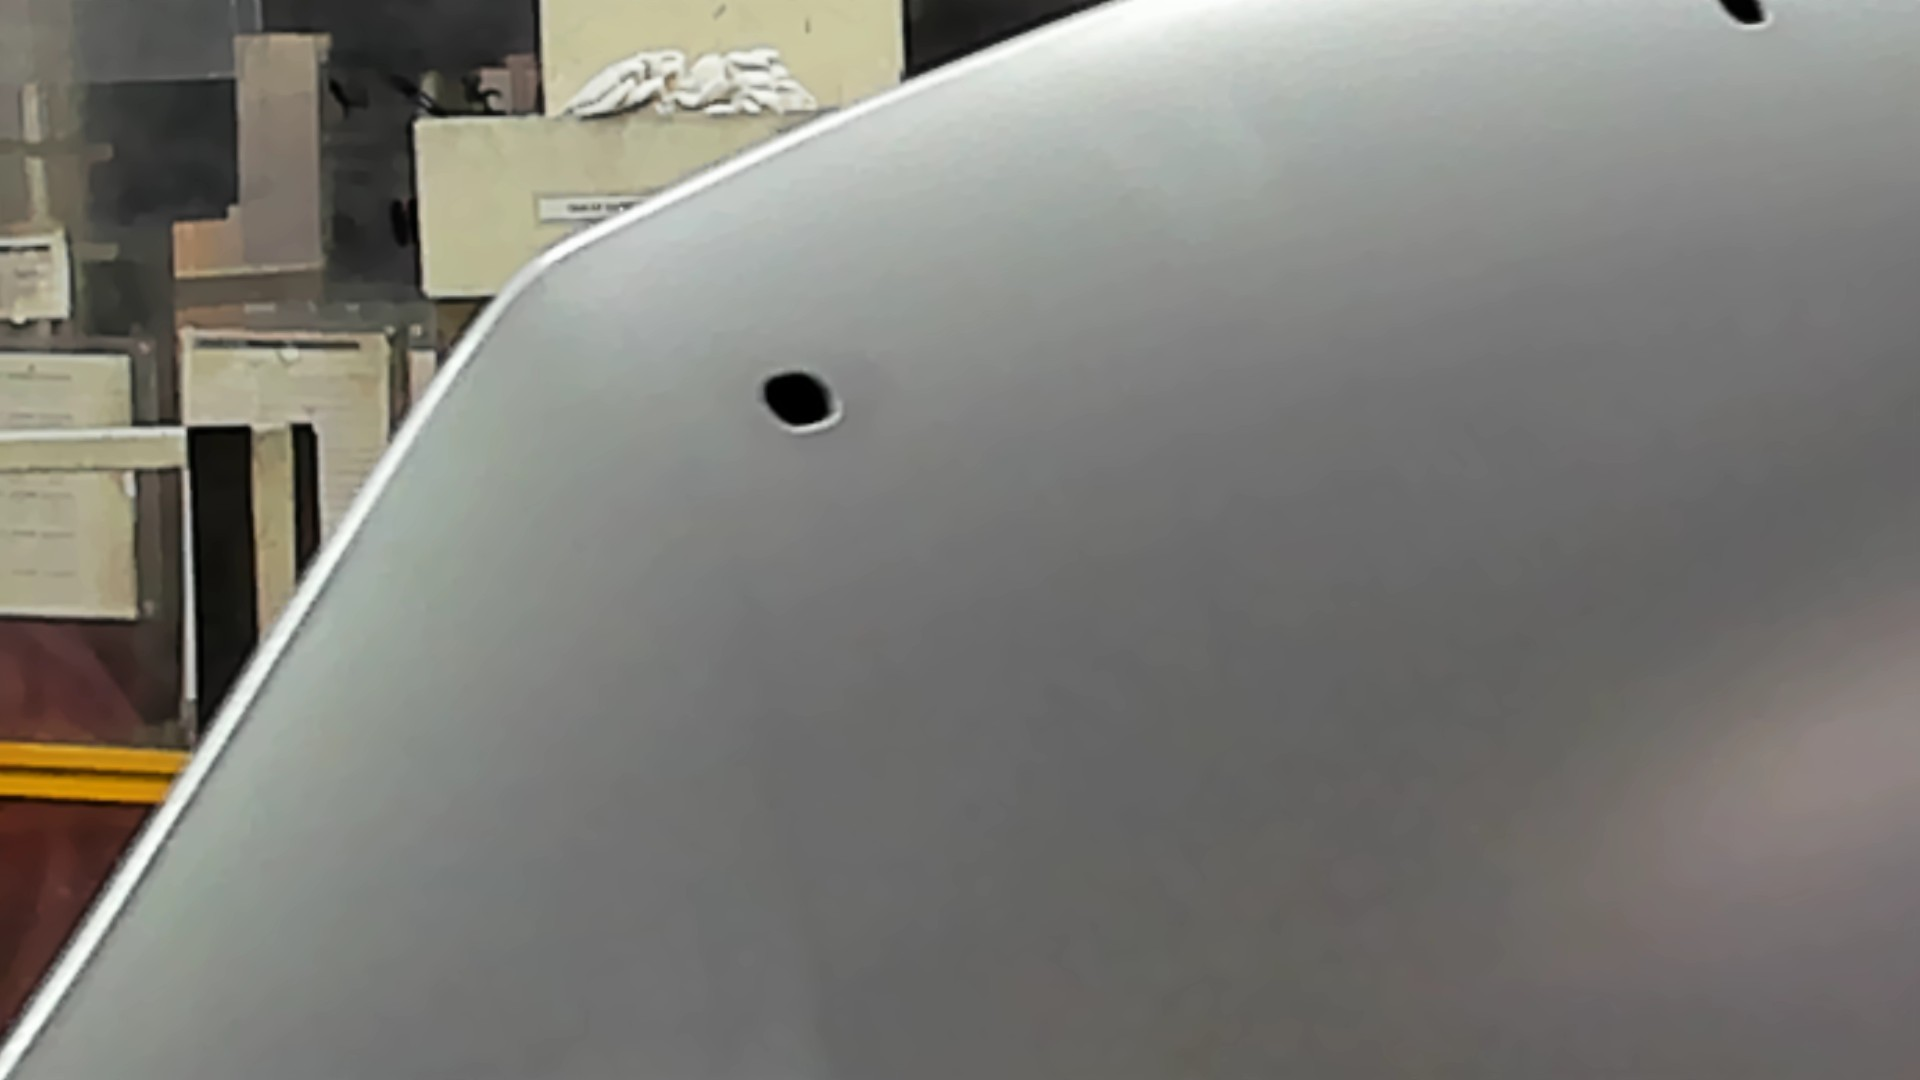amorfo: (742, 363, 851, 440), (1702, 1, 1782, 36)
capo: (955, 87, 1920, 1080)
